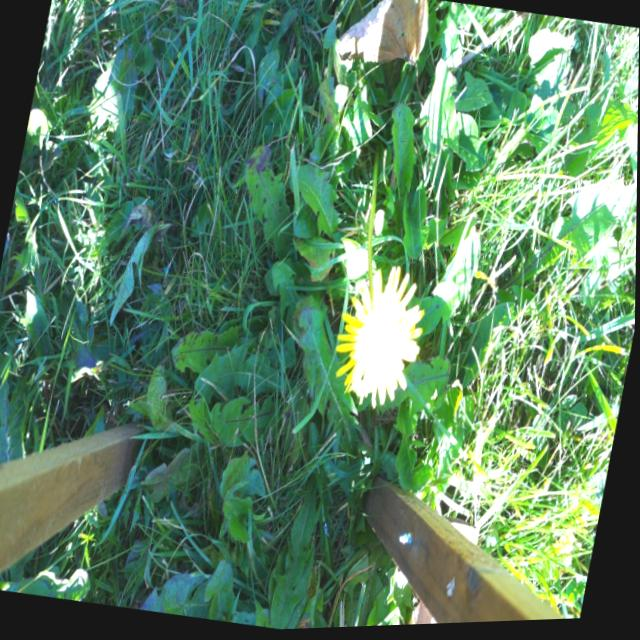base: (364, 138, 391, 179)
